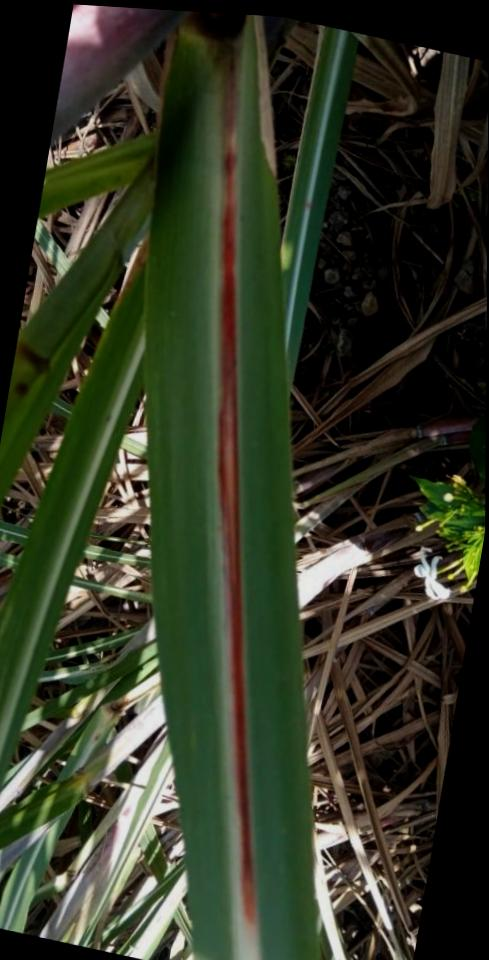RedRot: (217, 41, 254, 931)
